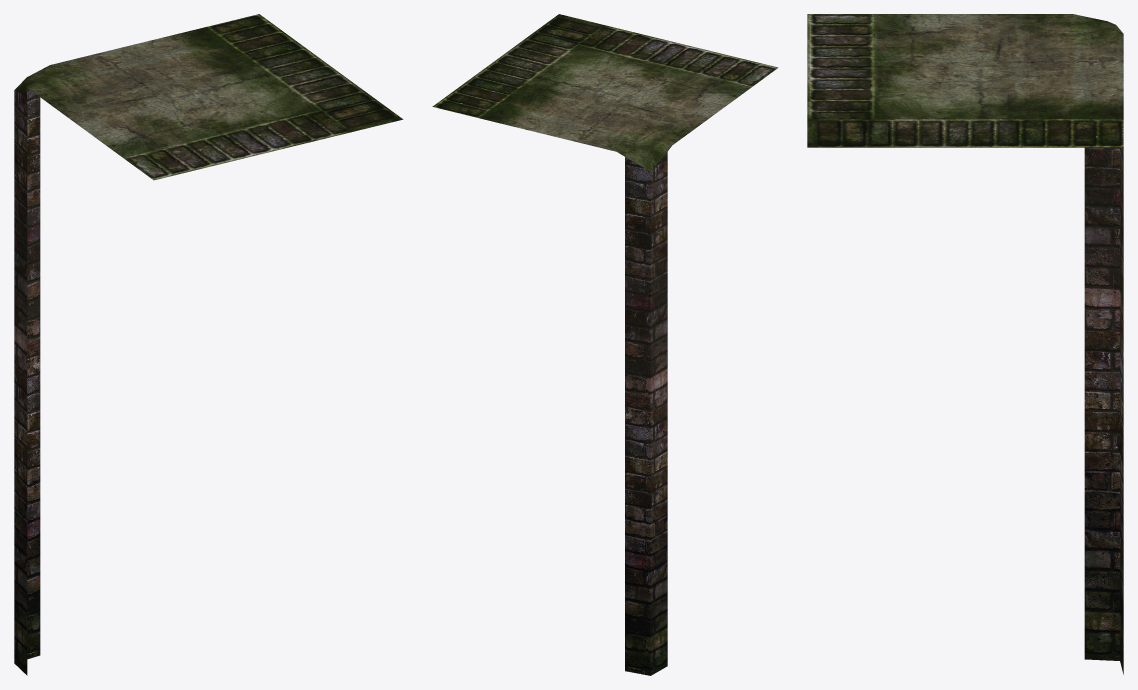
File: floor_high_concave.DAE
3 renders of one model, left to right at view 1: azimuth 30°, elevation 25°; view 2: azimuth 150°, elevation 25°; view 3: azimuth 270°, elevation 25°, orthographic. The views are drawn at different scales.
Parts seen in each view (by area): view 1: floor_high_corner_concave, floor_high_corner_concave_brick; view 2: floor_high_corner_concave, floor_high_corner_concave_brick; view 3: floor_high_corner_concave, floor_high_corner_concave_brick.
Part boxes in pixels (x1,y1,x2,y2): floor_high_corner_concave: (14, 14, 403, 180); floor_high_corner_concave_brick: (14, 90, 40, 675); floor_high_corner_concave: (432, 14, 778, 171); floor_high_corner_concave_brick: (625, 152, 667, 675); floor_high_corner_concave: (807, 14, 1123, 147); floor_high_corner_concave_brick: (1084, 147, 1123, 674).
Size of the model in its own units: 2 by 2 by 4.5.
